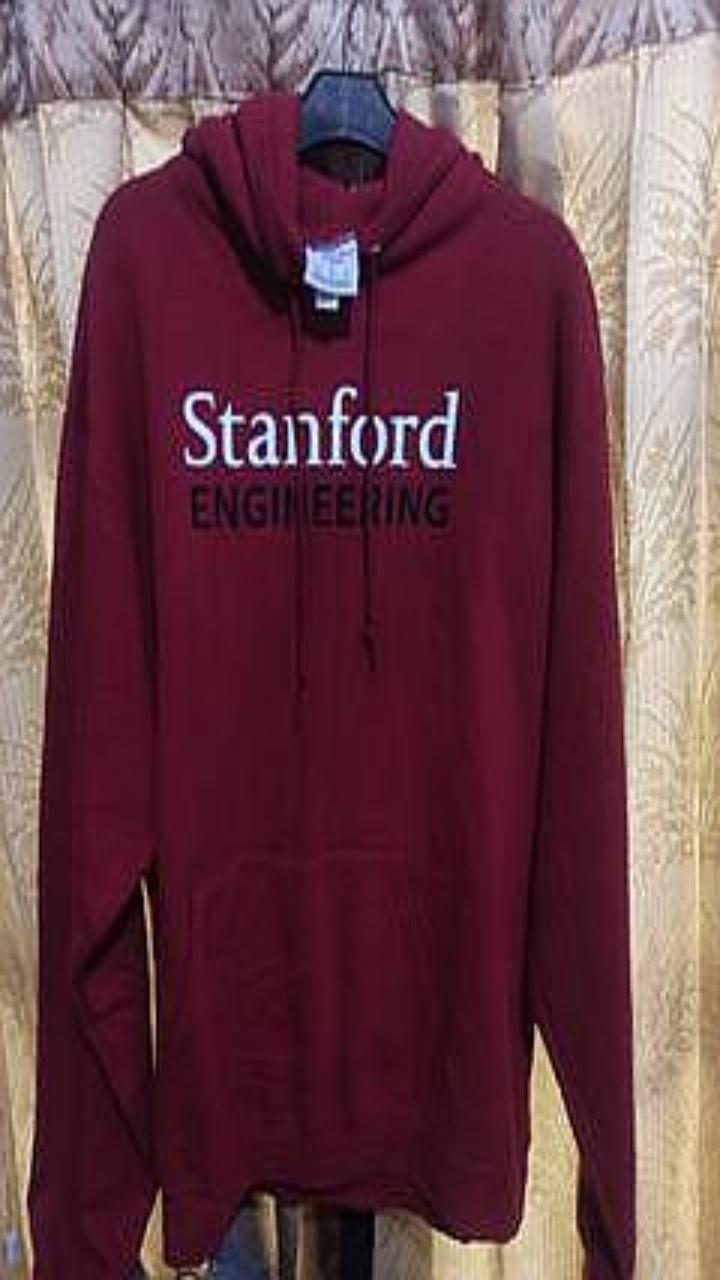Hoodie: (28, 91, 634, 1279)
